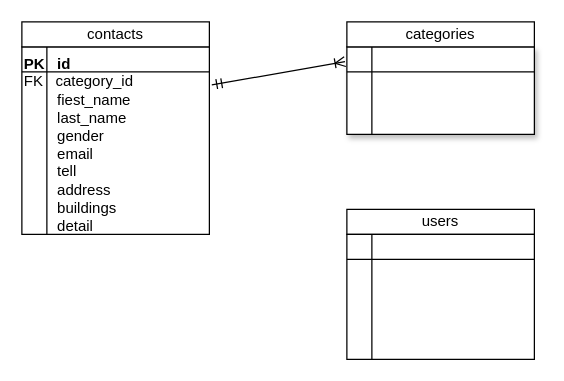
This 564x381 diagram has some shape labels left out. The centre of each missing label's shape, as x and y in pixels:
PK id content created_at updated_at: pixel 441 92
PK id name email password created_at updated_at: pixel 440 296
